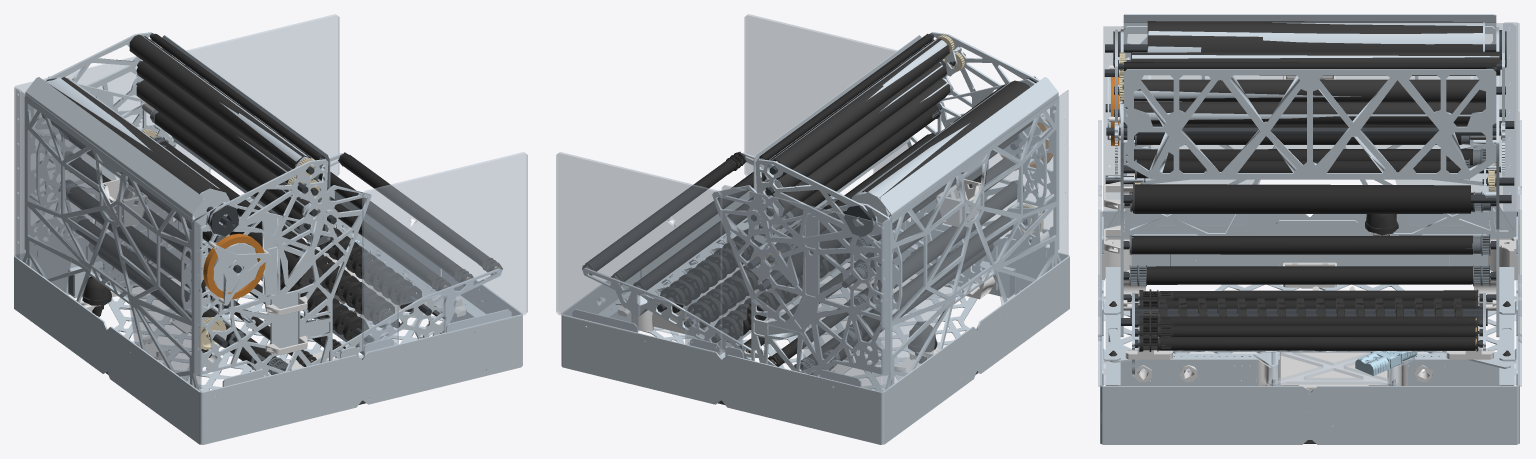
The model's file is 1678-body.glb.
The picture shows the model from 3 angles, left to right: view 1: azimuth 30°, elevation 25°; view 2: azimuth 150°, elevation 25°; view 3: azimuth 270°, elevation 25°; orthographic projection. The views are drawn at different scales.
Visible parts, largest first — view 1: 1678-26c-1110, 1678-26c-1121, Polycarb roller, Hood silicone, Cone Bumper Mount, Part 35, 1678-26c-1320, Part 44, Part 57, 28t Aluminum Spur Gear (20 DP, 1/2" Hex Bore); view 2: 1678-26c-1121, 1678-26c-1110, Polycarb roller, Hood silicone, Cone Bumper Mount, Part 35, 1678-26c-1320, Part 44, 28t Aluminum Spur Gear (20 DP, 1/2" Hex Bore); view 3: 1678-26c-1110, Polycarb roller, Hood silicone, 1678-26c-1121, Part 35, 1678-26c-1320, Cone Bumper Mount, Part 44, 38, 28t Aluminum Spur Gear (20 DP, 1/2" Hex Bore).
Part boxes in pixels (left/top/right/bottom): 1678-26c-1110: left=14, top=32, right=522, bottom=444; 1678-26c-1121: left=14, top=14, right=527, bottom=391; Polycarb roller: left=67, top=33, right=489, bottom=366; Hood silicone: left=41, top=34, right=318, bottom=231; Cone Bumper Mount: left=82, top=152, right=502, bottom=366; Part 35: left=80, top=179, right=466, bottom=370; 1678-26c-1320: left=46, top=33, right=499, bottom=371; Part 44: left=58, top=109, right=321, bottom=374; Part 57: left=203, top=233, right=265, bottom=299; 28t Aluminum Spur Gear (20 DP, 1/2" Hex Bore): left=142, top=129, right=319, bottom=349; 1678-26c-1121: left=556, top=14, right=1068, bottom=392; 1678-26c-1110: left=561, top=32, right=1069, bottom=444; Polycarb roller: left=585, top=34, right=1023, bottom=366; Hood silicone: left=766, top=38, right=1033, bottom=226; Cone Bumper Mount: left=582, top=151, right=1031, bottom=366; Part 35: left=617, top=179, right=1049, bottom=373; 1678-26c-1320: left=585, top=33, right=1044, bottom=370; Part 44: left=763, top=35, right=1024, bottom=374; 28t Aluminum Spur Gear (20 DP, 1/2" Hex Bore): left=753, top=35, right=1043, bottom=266; 1678-26c-1110: left=1100, top=14, right=1519, bottom=444; Polycarb roller: left=1123, top=62, right=1496, bottom=350; Hood silicone: left=1122, top=21, right=1500, bottom=124; 1678-26c-1121: left=1098, top=22, right=1521, bottom=386; Part 35: left=1102, top=75, right=1517, bottom=393; 1678-26c-1320: left=1104, top=30, right=1514, bottom=347; Cone Bumper Mount: left=1109, top=191, right=1510, bottom=356; Part 44: left=1129, top=66, right=1496, bottom=286; 38: left=1355, top=351, right=1417, bottom=375; 28t Aluminum Spur Gear (20 DP, 1/2" Hex Bore): left=1119, top=52, right=1495, bottom=191.
Size of the model in its own units: 0.7049 by 0.5213 by 0.7112.
